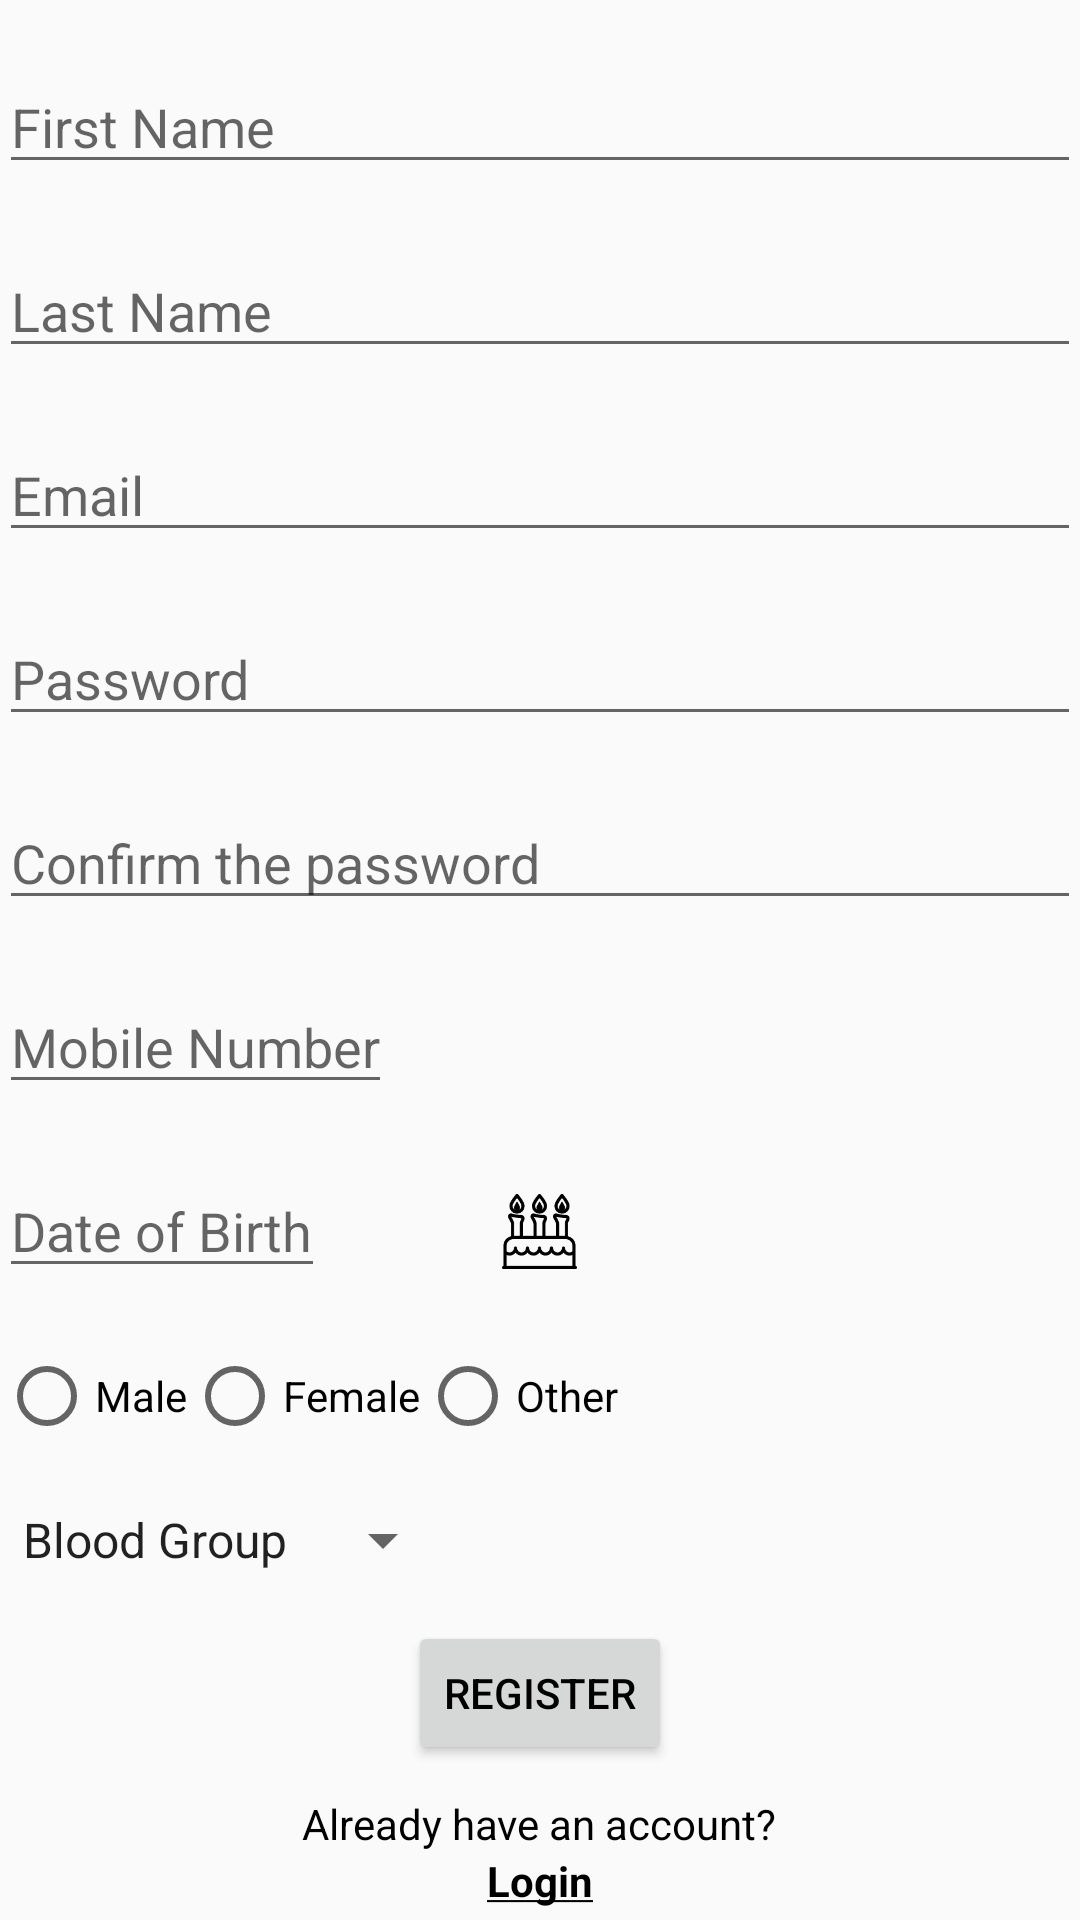

Icon bounding boxes for this 1080w x 1920h phone screenshot, format (x1,y1,x2,y2):
birthday: (502,1194,577,1269)
